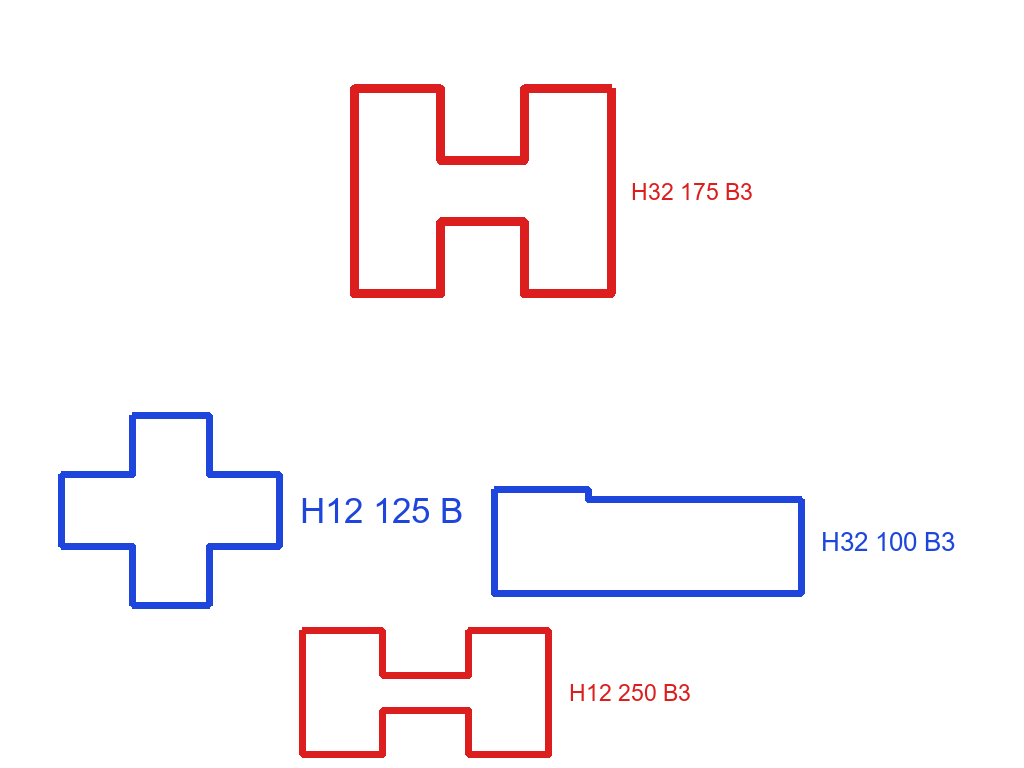shape: (348, 82, 618, 300), (56, 410, 285, 611), (489, 484, 807, 599), (297, 625, 554, 760)
text: (298, 496, 465, 525), (819, 530, 957, 553), (629, 181, 755, 202), (567, 682, 693, 703)
